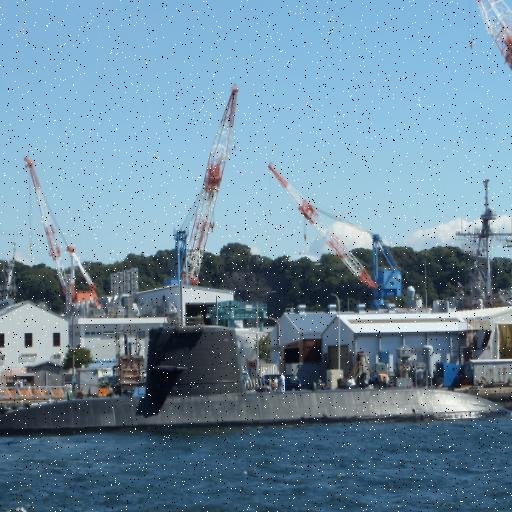submarine: (1, 321, 510, 414)
